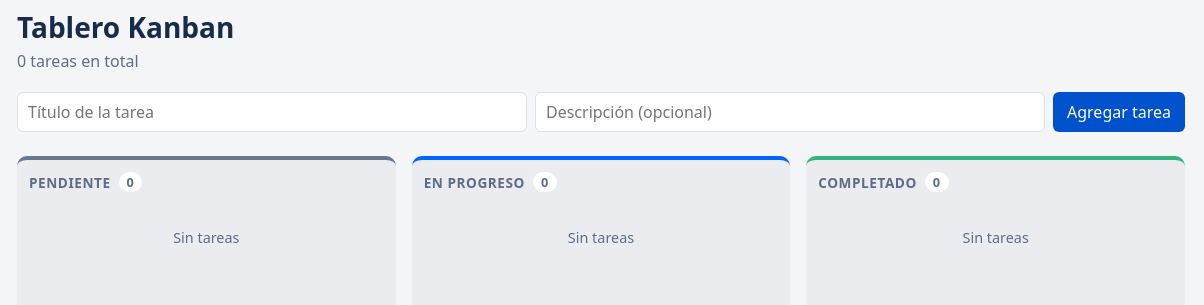
App Kanban › elimina una tarea
The width and height of the screenshot is (1204, 305).
Type "Borrar esto" into the field labelled "Título de la tarea".
click(272, 112); type("Borrar esto")  # box [17,92,527,132]
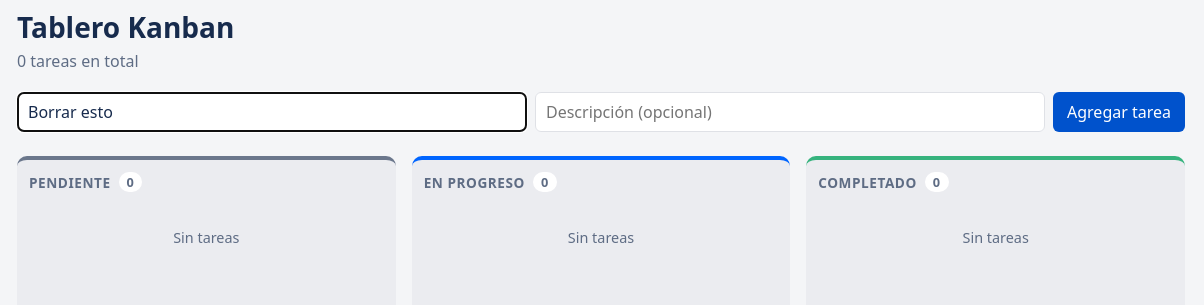
Click the button "Agregar tarea".
click(1119, 112)  # box [1053,92,1185,132]
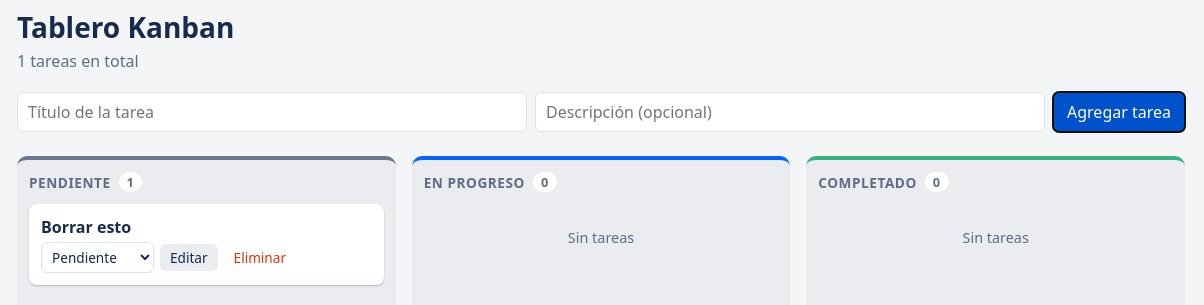
Click the button "Eliminar".
click(260, 258)  # box [224,244,296,271]
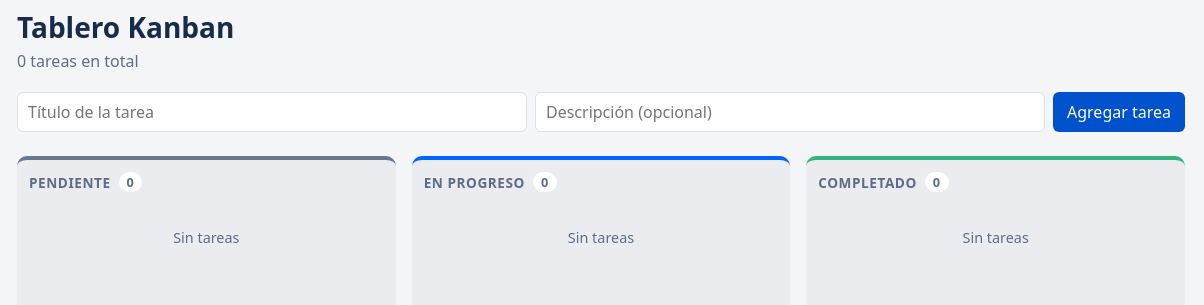
Now the heading "Borrar esto" is gone
